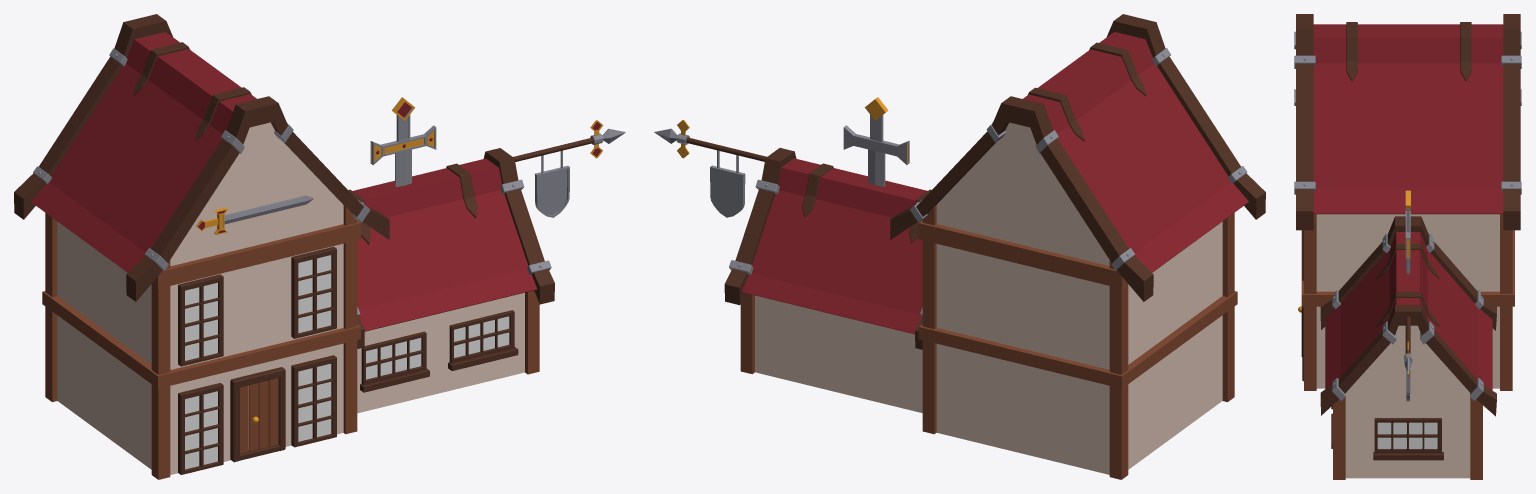
File: Armory_Upgrade_3.fbx
3 views of the same model, side by side, from view 1: azimuth 30°, elevation 25°; view 2: azimuth 150°, elevation 25°; view 3: azimuth 270°, elevation 25° (orthographic). The views are drawn at different scales.
Visible parts, largest first — view 1: Medium sword; view 2: Medium sword; view 3: Medium sword.
Boxes of the visible parts, x1=… form: Medium sword: x1=14, y1=14, x2=625, y2=479; Medium sword: x1=654, y1=14, x2=1265, y2=479; Medium sword: x1=1294, y1=14, x2=1521, y2=479.
Bounding box in the file's own units: 1251 × 764 × 485.
